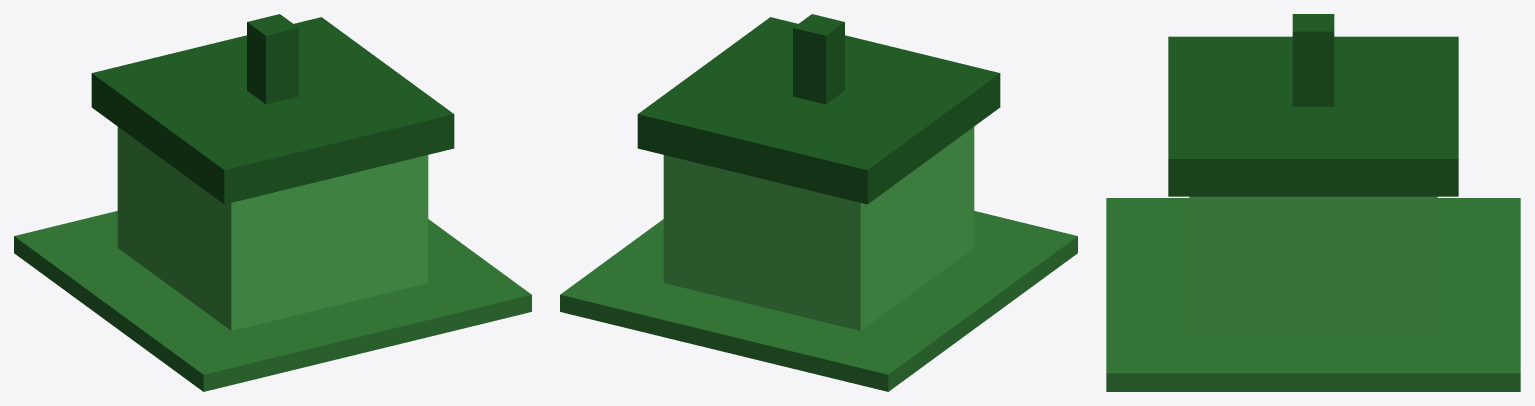
The model's file is zone-forest.glb.
3 views of the same model, side by side, from view 1: azimuth 30°, elevation 25°; view 2: azimuth 150°, elevation 25°; view 3: azimuth 270°, elevation 25° (orthographic). The views are drawn at different scales.
Visible parts, largest first — view 1: body, roof, ground, spire; view 2: body, roof, ground, spire; view 3: ground, roof, body, spire.
Boxes of the visible parts, x1,y1,x2,y2 form: body: (117,127,428,330); roof: (91,17,454,204); ground: (14,211,531,391); spire: (247,14,298,104); body: (663,127,974,330); roof: (637,17,1000,204); ground: (560,211,1077,391); spire: (793,14,844,104); ground: (1106,198,1520,391); roof: (1168,36,1458,196); body: (1189,196,1437,338); spire: (1292,14,1334,106).
Bounding box in the file's own units: 4 × 3 × 4.
